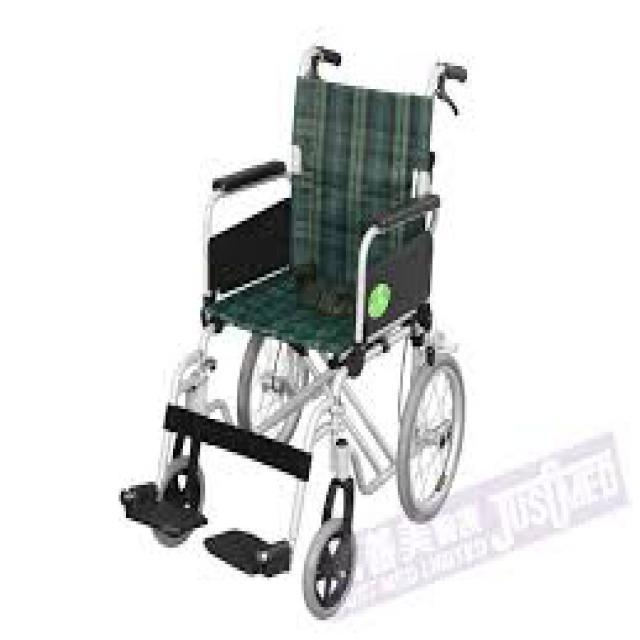wheelchairs: (139, 41, 465, 618)
